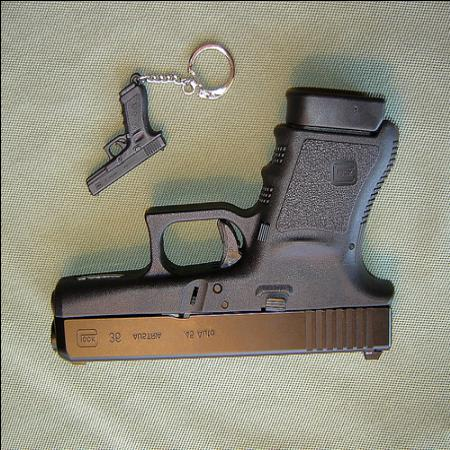Pistol: (46, 84, 400, 368), (83, 73, 163, 197)
